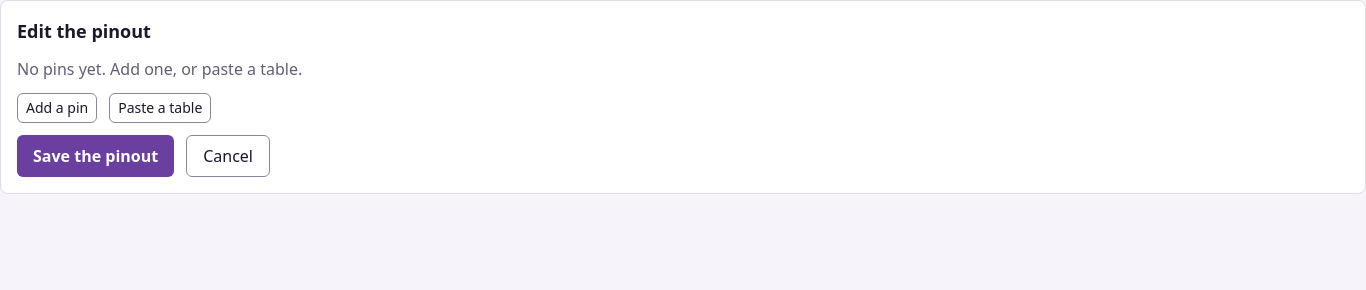
PinoutEditor › adds a row and removes it again
Expected: the text "No pins yet. Add one, or paste a table." is shown, [17,58,302,80]
Click the button "Add a pin": (57, 108) [17,93,97,123]
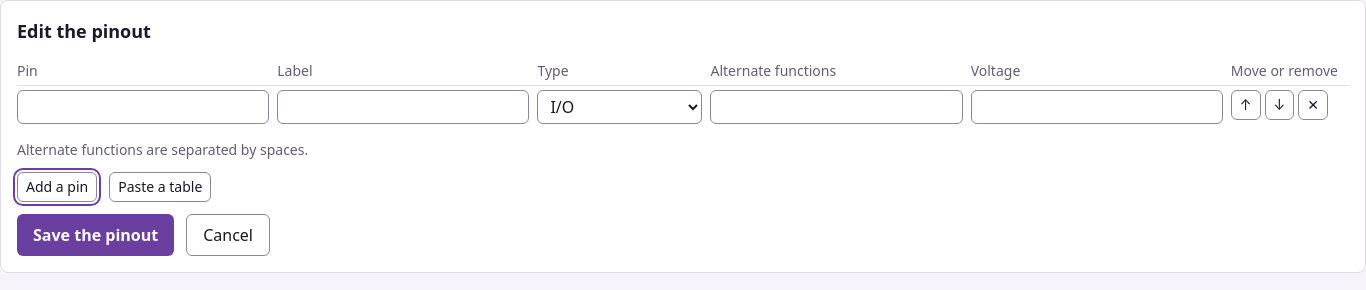
In the field named "Pin 1, number": (143, 107) [17,90,269,124], type "EP"
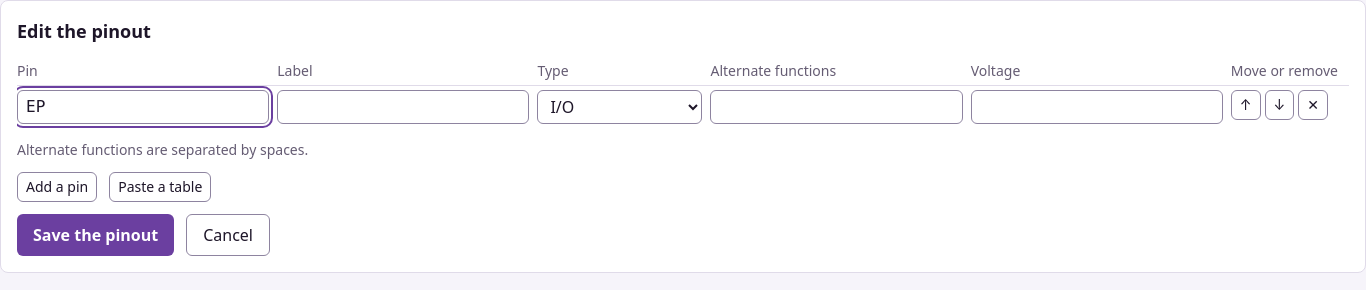
In the field named "Pin 1, label": (403, 107) [277,90,529,124], type "PAD"
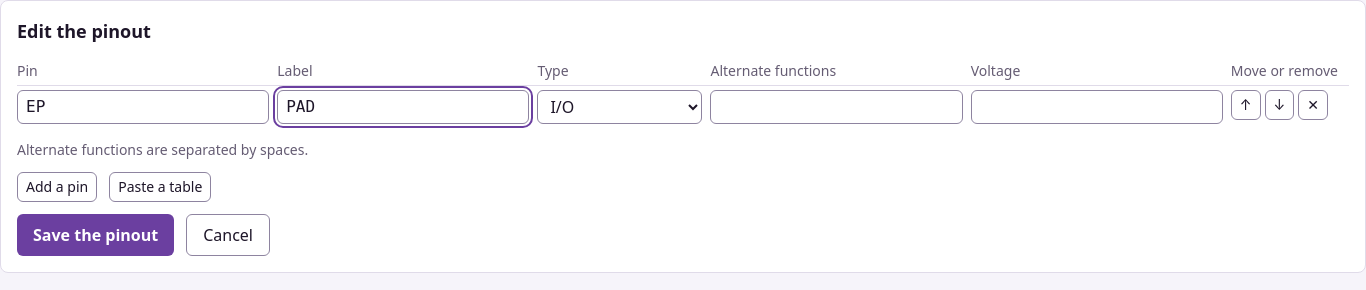
Click the button named "Remove pin 1": (1313, 105) [1298,90,1328,120]
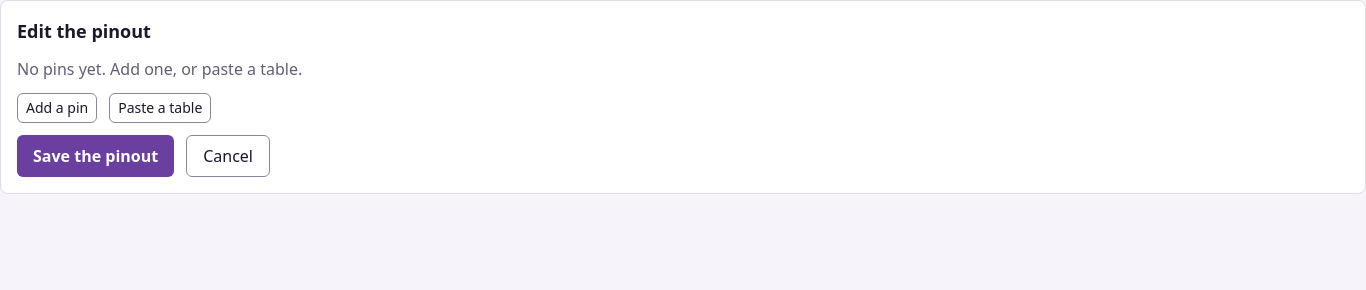
Expected: the text "No pins yet. Add one, or paste a table." is shown, [17,58,302,80]
